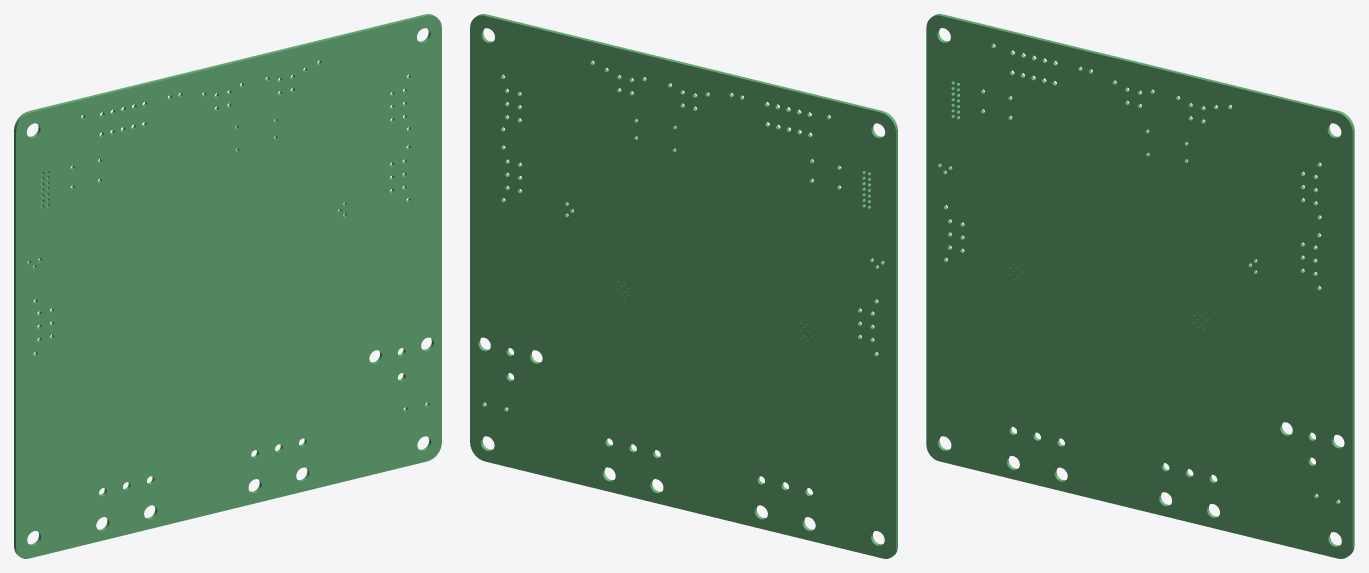
Rendered from Open_CASCADE_STEP_translator_7_5_1_1_1.gltf.
The picture shows the model from 3 angles, left to right: view 1: azimuth 30°, elevation 25°; view 2: azimuth 150°, elevation 25°; view 3: azimuth 330°, elevation 25°; orthographic projection.
Visible parts, largest first — view 1: mesh89919, mesh89924, mesh89926; view 2: mesh89918, mesh89924, mesh89926; view 3: mesh89919, mesh89922, mesh89924.
Part boxes in pixels (x1,y1,x2,y2): mesh89919: [16, 15, 441, 558]; mesh89924: [29, 14, 426, 112]; mesh89926: [14, 130, 15, 547]; mesh89918: [470, 15, 895, 558]; mesh89924: [485, 14, 882, 112]; mesh89926: [896, 130, 897, 547]; mesh89919: [926, 15, 1352, 558]; mesh89922: [1352, 130, 1354, 545]; mesh89924: [941, 14, 1339, 112].
Size of the model in its own units: 0.1016 by 0.1016 by 0.000853.
